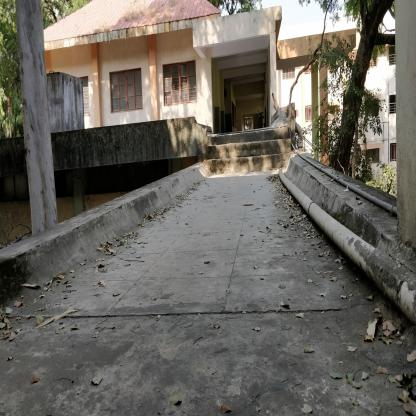stairs: (215, 131, 278, 174)
